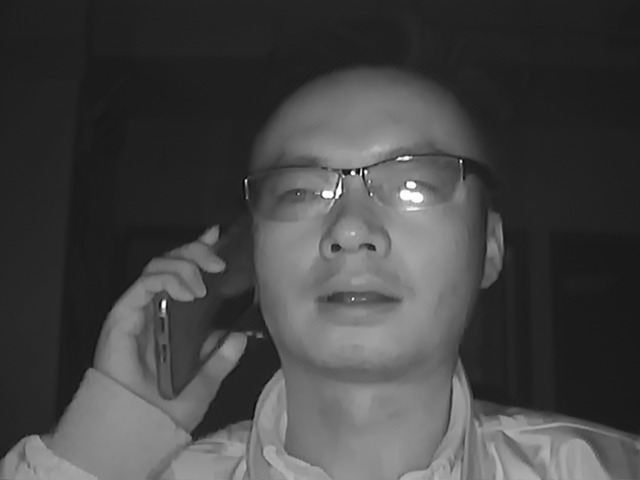hand: (93, 223, 251, 416)
